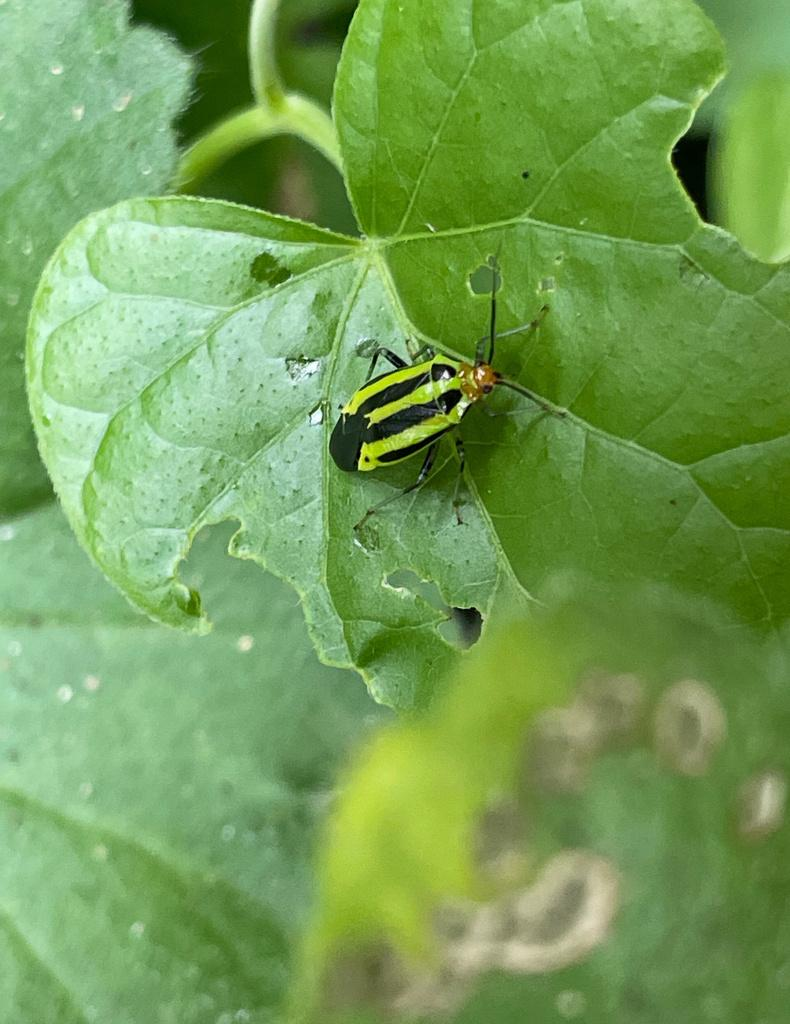plant_bugs: (250, 229, 590, 563)
